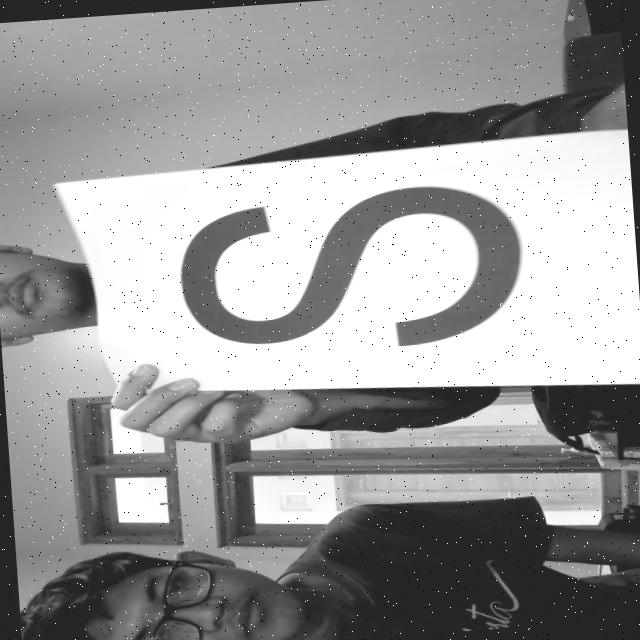s: (156, 164, 560, 381)
